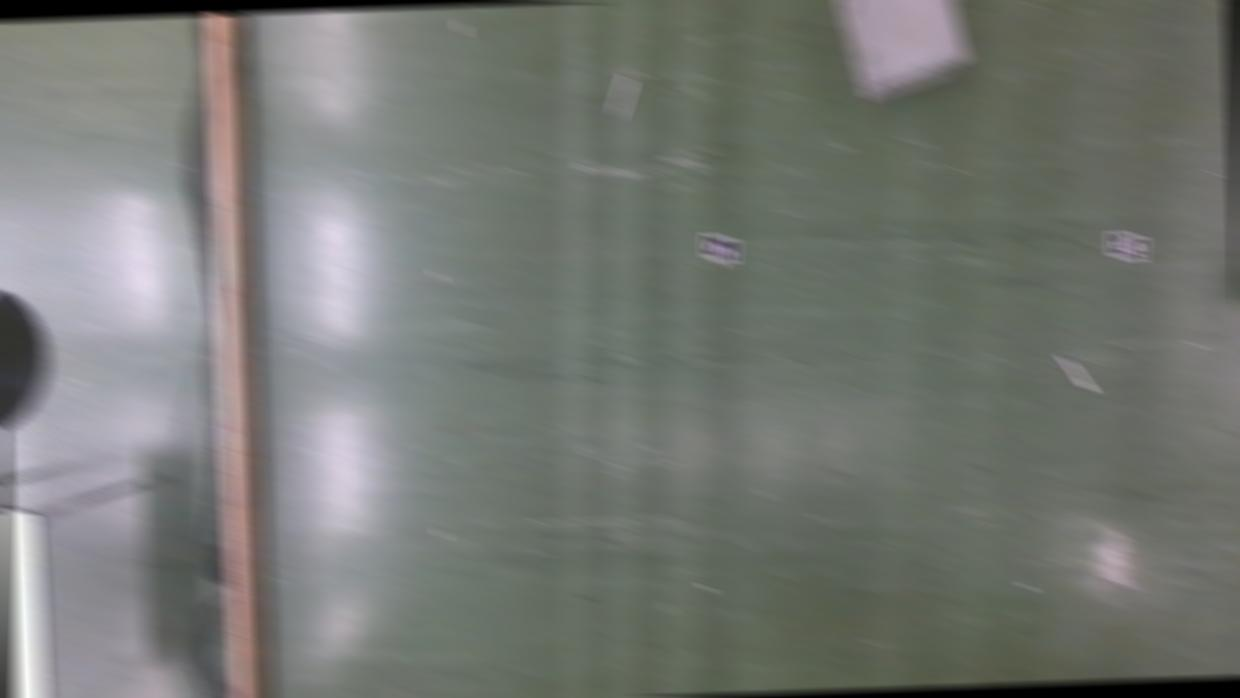probes: (1061, 356, 1091, 393), (610, 77, 633, 119)
rako: (832, 0, 971, 106)
